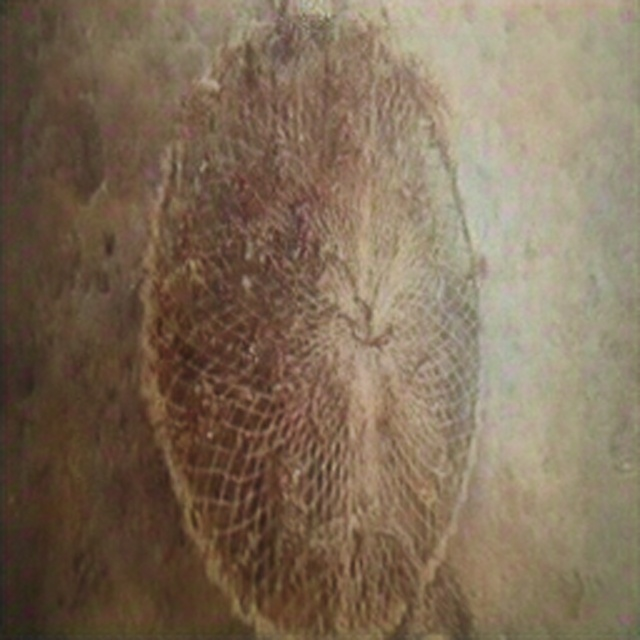mine: (141, 7, 485, 640)
